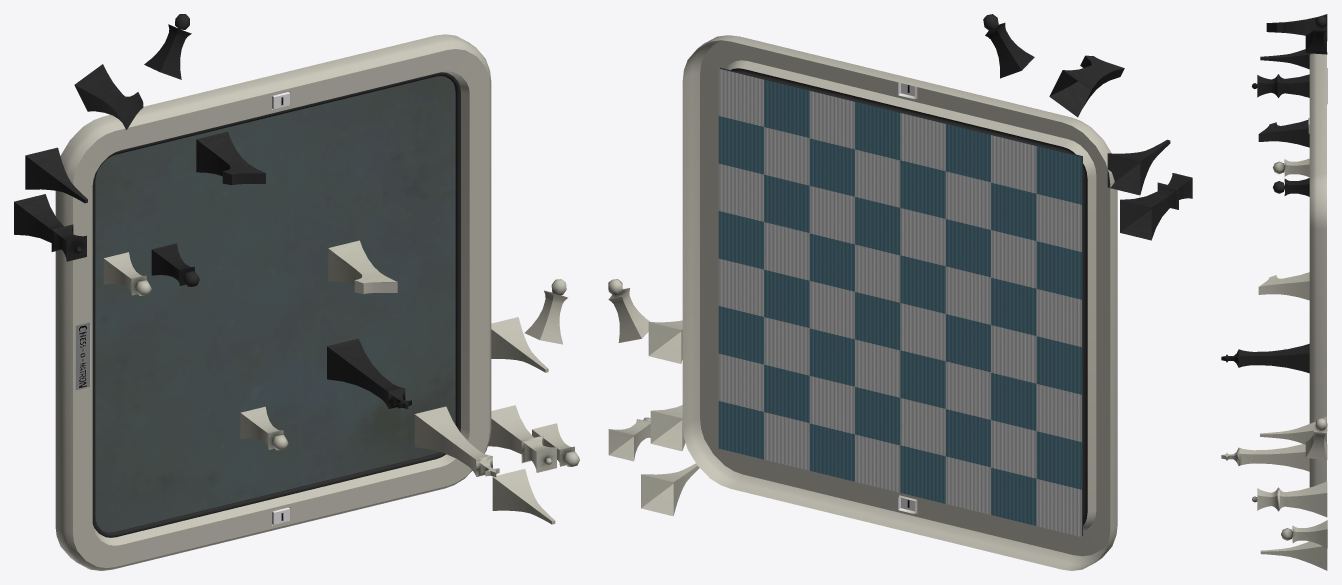
File: nt_2025_chess_board_LOD0.obj
3 views of the same model, side by side, from view 1: azimuth 30°, elevation 25°; view 2: azimuth 150°, elevation 25°; view 3: azimuth 270°, elevation 25° (orthographic). The views are drawn at different scales.
Parts seen in each view (by area): view 1: com_glass_clear, mtl_nt_2025_chess_board; view 2: mtl_nt_2025_chess_board_unlit, mtl_nt_2025_chess_board, com_glass_clear; view 3: mtl_nt_2025_chess_board.
Part boxes in pixels (x1,y1,x2,y2): com_glass_clear: [95, 76, 455, 532]; mtl_nt_2025_chess_board: [14, 14, 579, 570]; mtl_nt_2025_chess_board_unlit: [718, 68, 1081, 536]; mtl_nt_2025_chess_board: [608, 14, 1192, 570]; com_glass_clear: [720, 67, 1082, 535]; mtl_nt_2025_chess_board: [1221, 14, 1327, 570].
Size of the model in its own units: 63.92 by 64.2 by 14.43.
